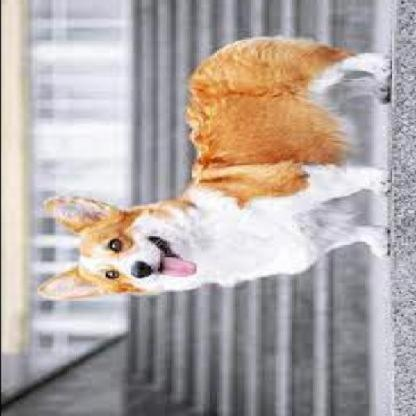dog: (37, 35, 390, 301)
